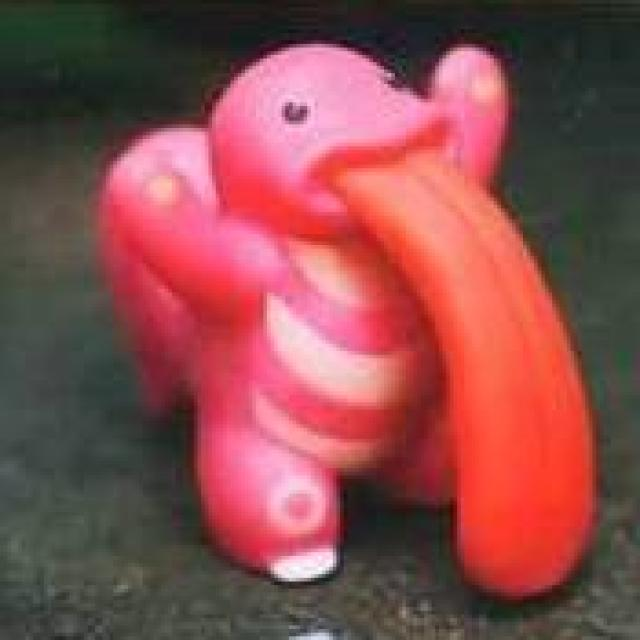Lickitung: (171, 21, 588, 587)
